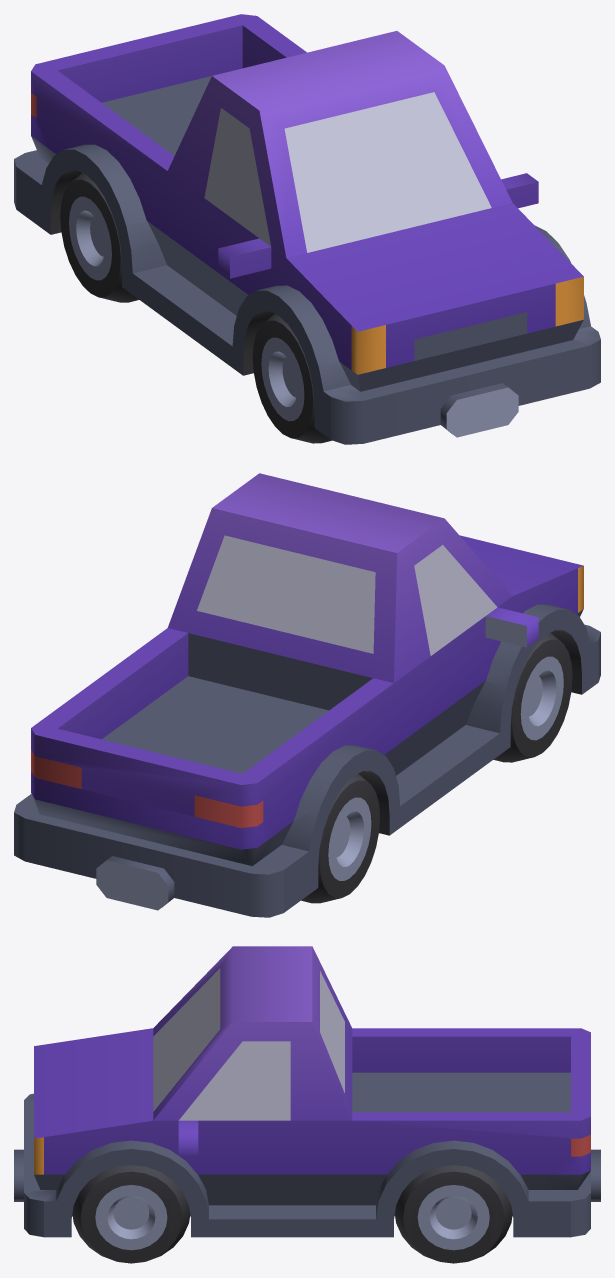
The model's file is vehicle-flatbed-purple.glb.
The picture shows the model from 3 angles, top to bottom: view 1: azimuth 30°, elevation 25°; view 2: azimuth 150°, elevation 25°; view 3: azimuth 270°, elevation 25°; orthographic projection. The views are drawn at different scales.
Visible parts, largest first — view 1: body, wheel-front-right, wheel-back-right; view 2: body, wheel-front-right, wheel-back-right; view 3: body, wheel-front-left, wheel-back-left.
Boxes of the visible parts, x1,y1,x2,y2 form: body: [14, 14, 600, 444]; wheel-front-right: [252, 313, 331, 443]; wheel-back-right: [60, 173, 138, 302]; body: [14, 473, 600, 917]; wheel-front-right: [493, 632, 572, 762]; wheel-back-right: [301, 773, 379, 903]; body: [14, 946, 600, 1237]; wheel-front-left: [72, 1165, 190, 1263]; wheel-back-left: [394, 1165, 512, 1263].
Size of the model in its own units: 1.5 by 1.3 by 2.95.
Materials: 1 (1 with a texture image).
